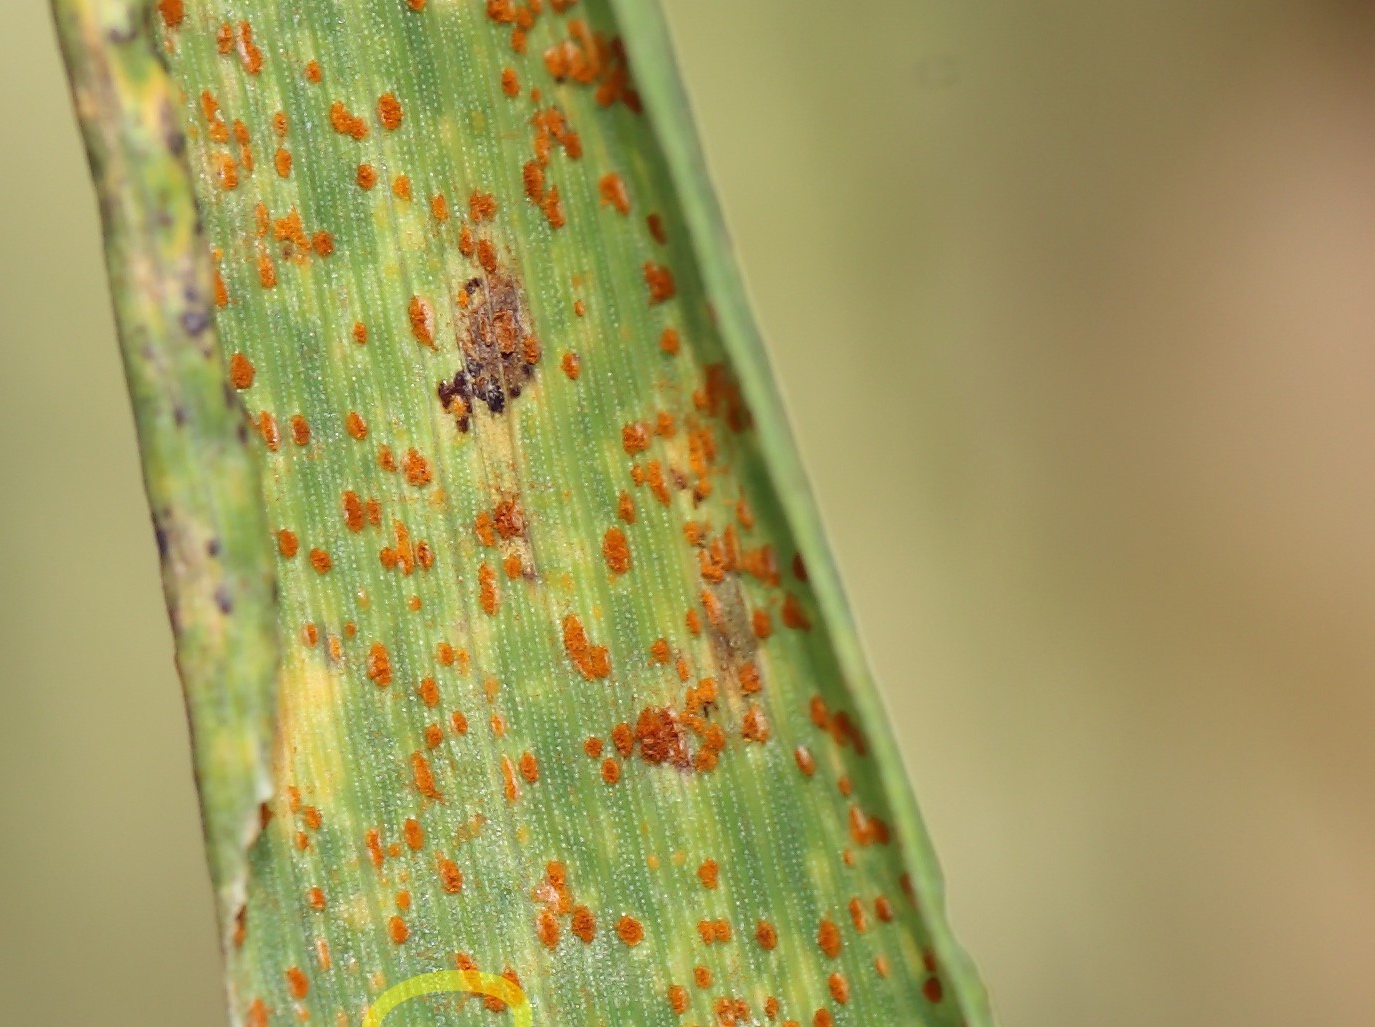Leaf Rust: (209, 94, 889, 927)
